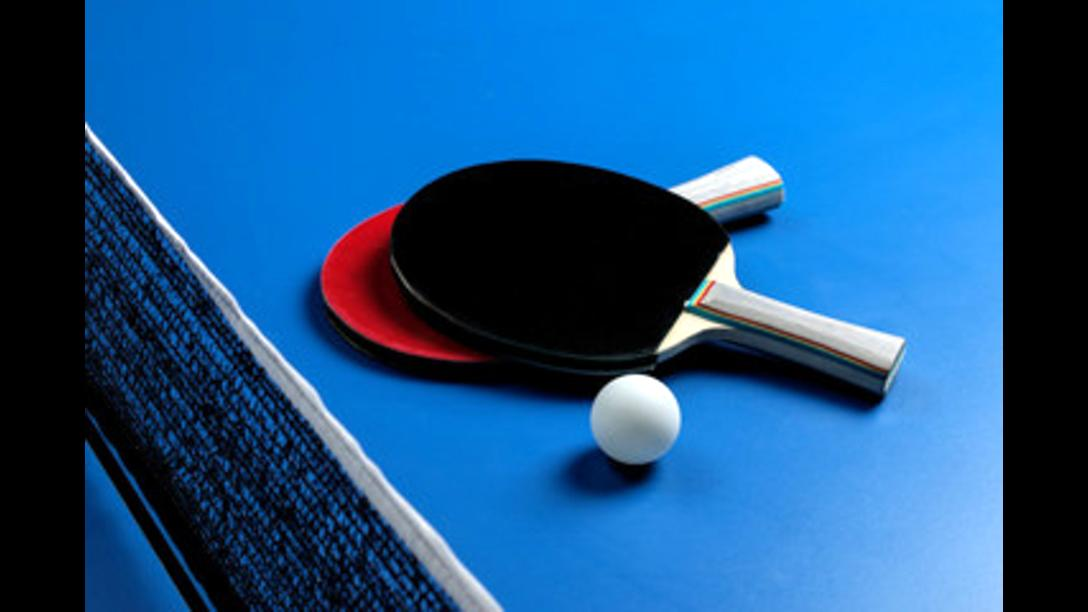Table-Tennis-Ball: (592, 374, 680, 462)
